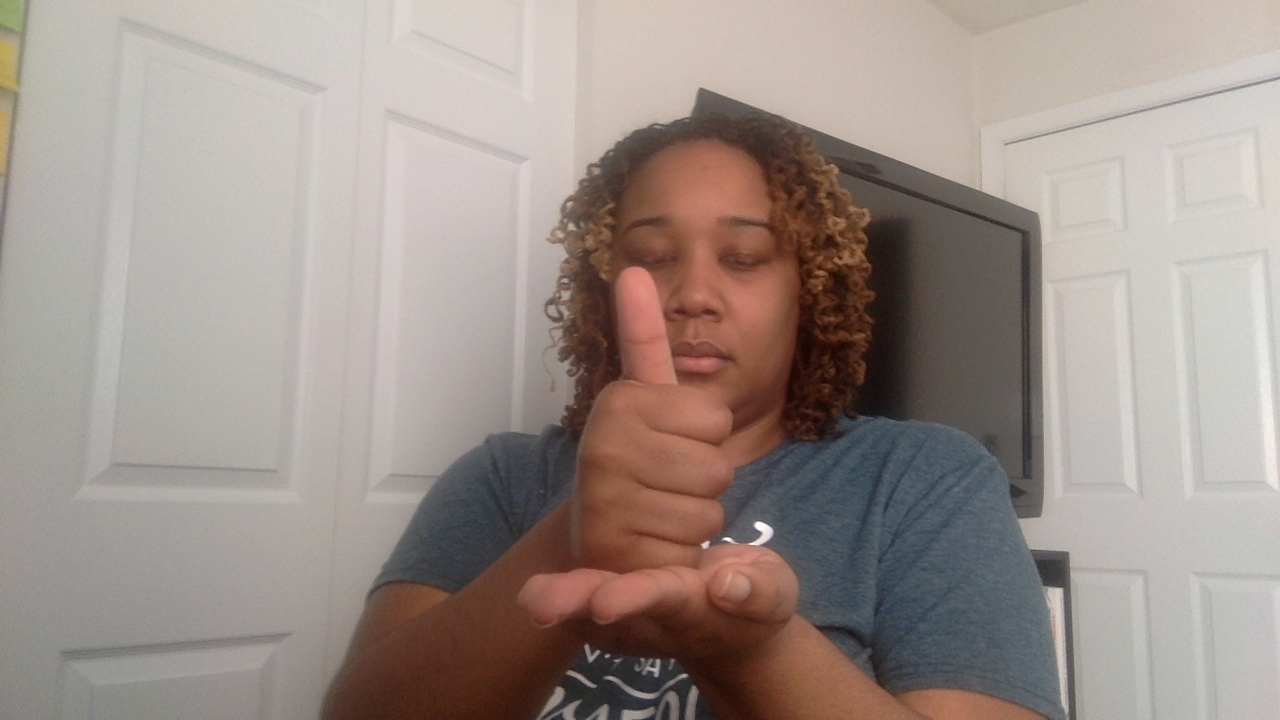help: (515, 266, 816, 720)
